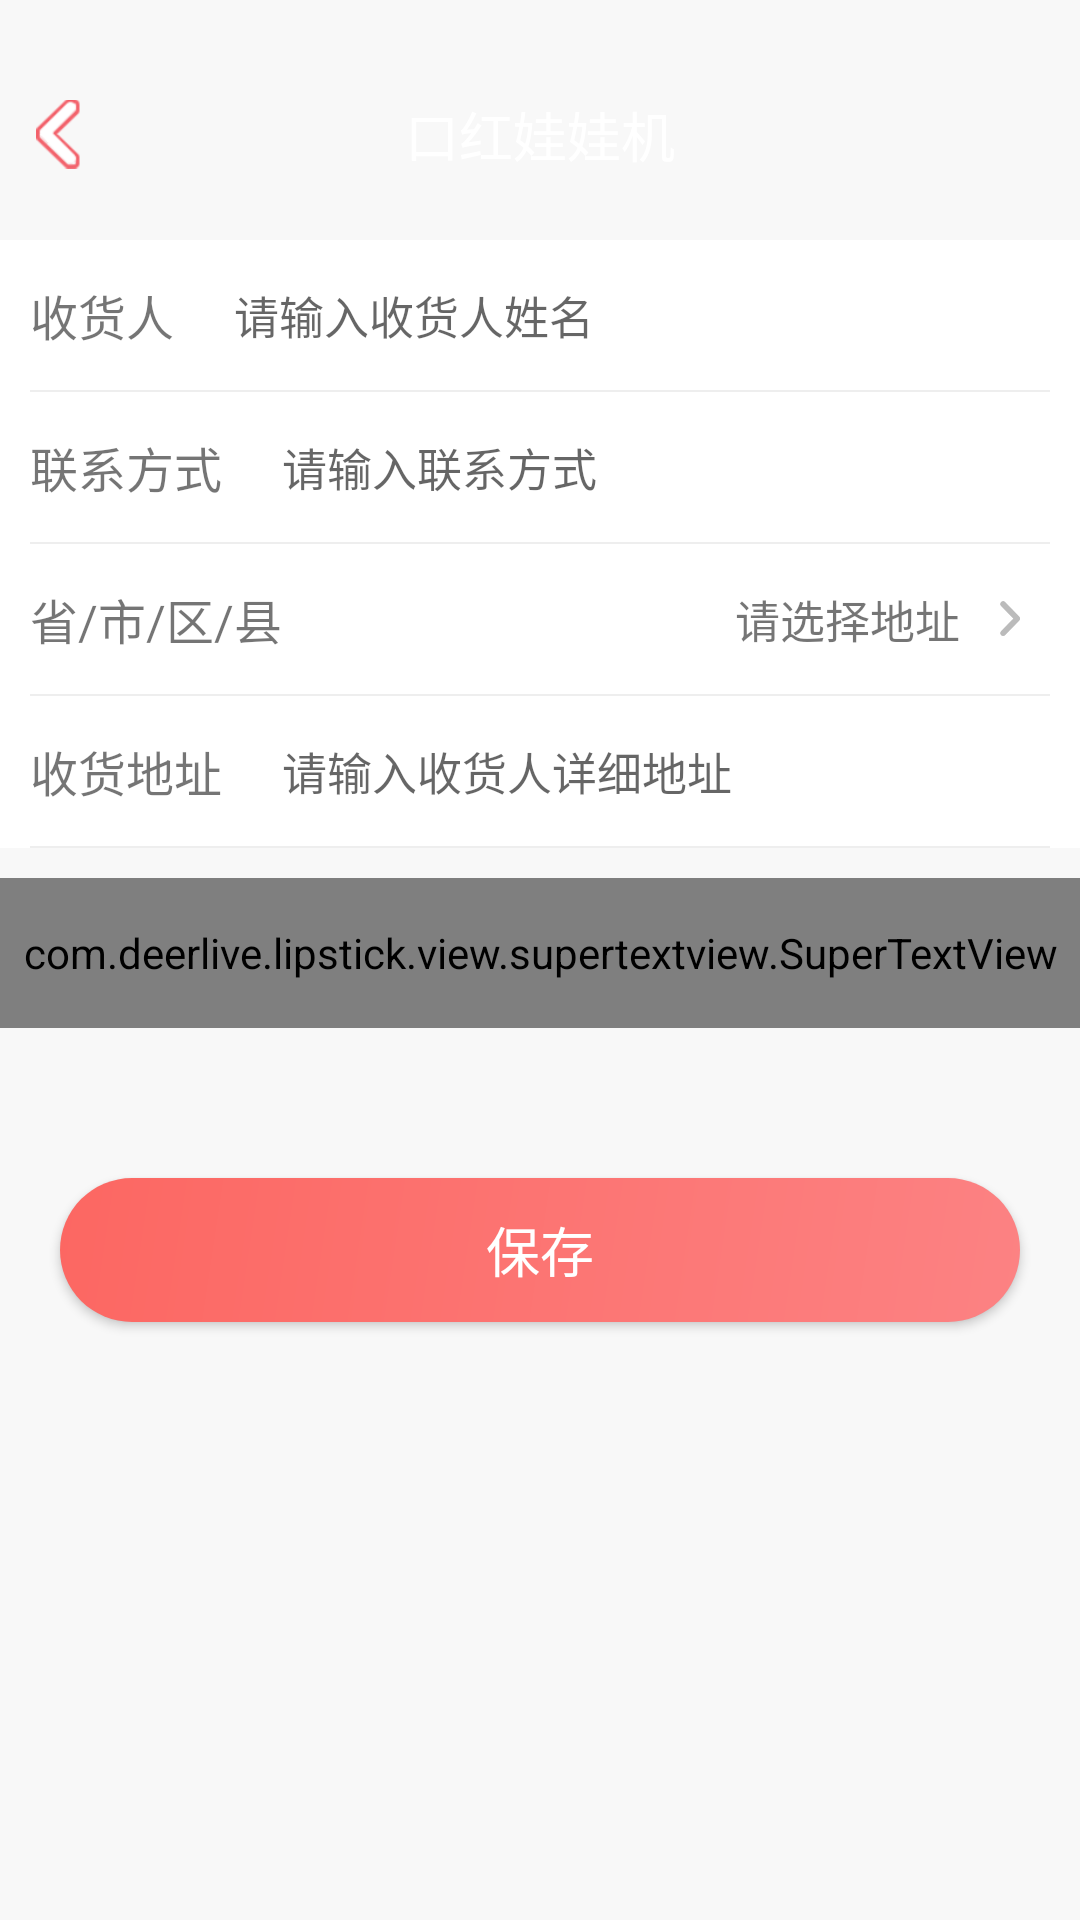

Screen size 1080×1920. Icon name, then its center in pixels as [x,y]:
player back: [58,134]
